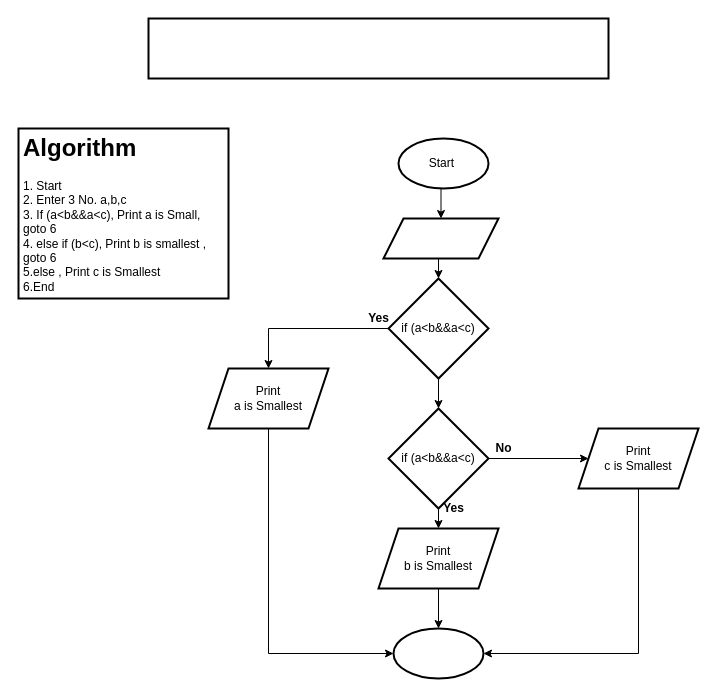
The diagram is 716 pixels wide and 696 high, and some of its shapes have lost their labels. The shapes that lost their labels are listed below. From the top down, each one's centre as x and y in pixels, then its label:
At point 378,48: "Smallest of Three No's".
At point 440,238: "Enter a,b,c".
At point 438,653: "End".
